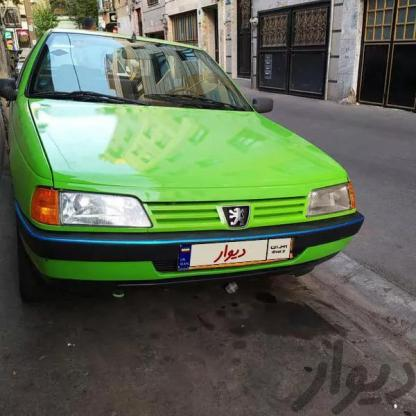Car: (0, 24, 360, 328)
